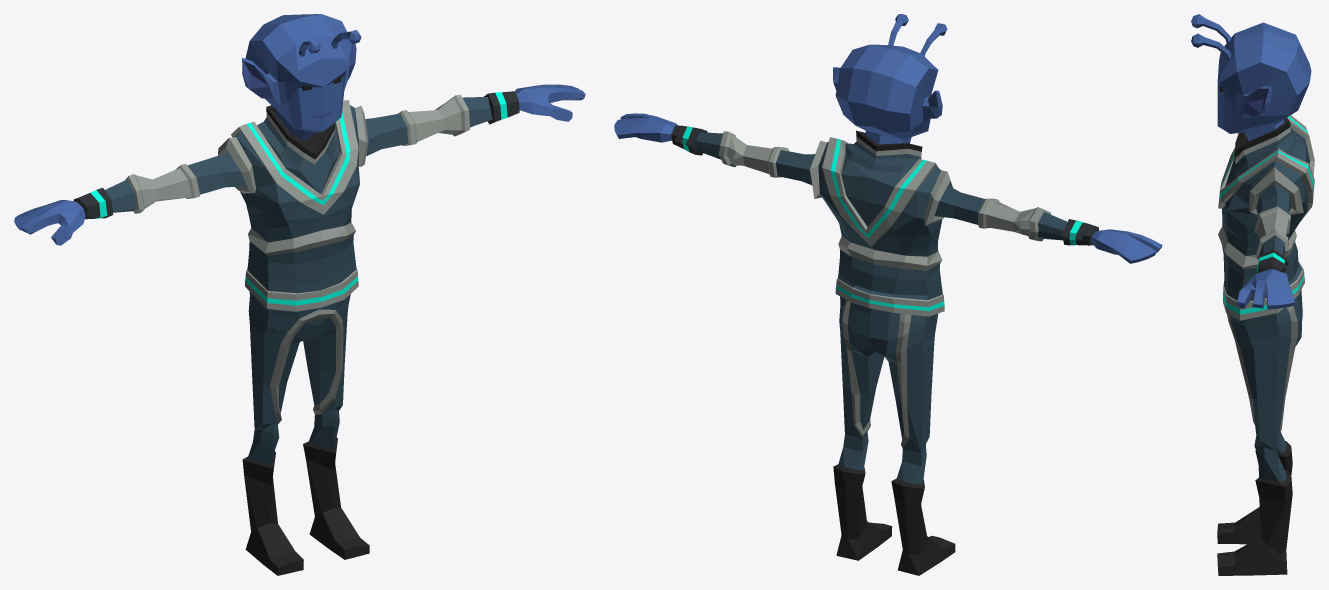
File: alien_char.glb
3 views of the same model, side by side, from view 1: azimuth 30°, elevation 25°; view 2: azimuth 150°, elevation 25°; view 3: azimuth 270°, elevation 25° (orthographic). The views are drawn at different scales.
Visible parts, largest first — view 1: Character_Alien_Male_01; view 2: Character_Alien_Male_01; view 3: Character_Alien_Male_01.
Part boxes in pixels (x1=…): Character_Alien_Male_01: x1=14, y1=14, x2=585, y2=575; Character_Alien_Male_01: x1=614, y1=14, x2=1162, y2=575; Character_Alien_Male_01: x1=1191, y1=14, x2=1314, y2=575.
Size of the model in its own units: 2.05 by 1.87 by 0.3966.
1 material, 1 textured.
